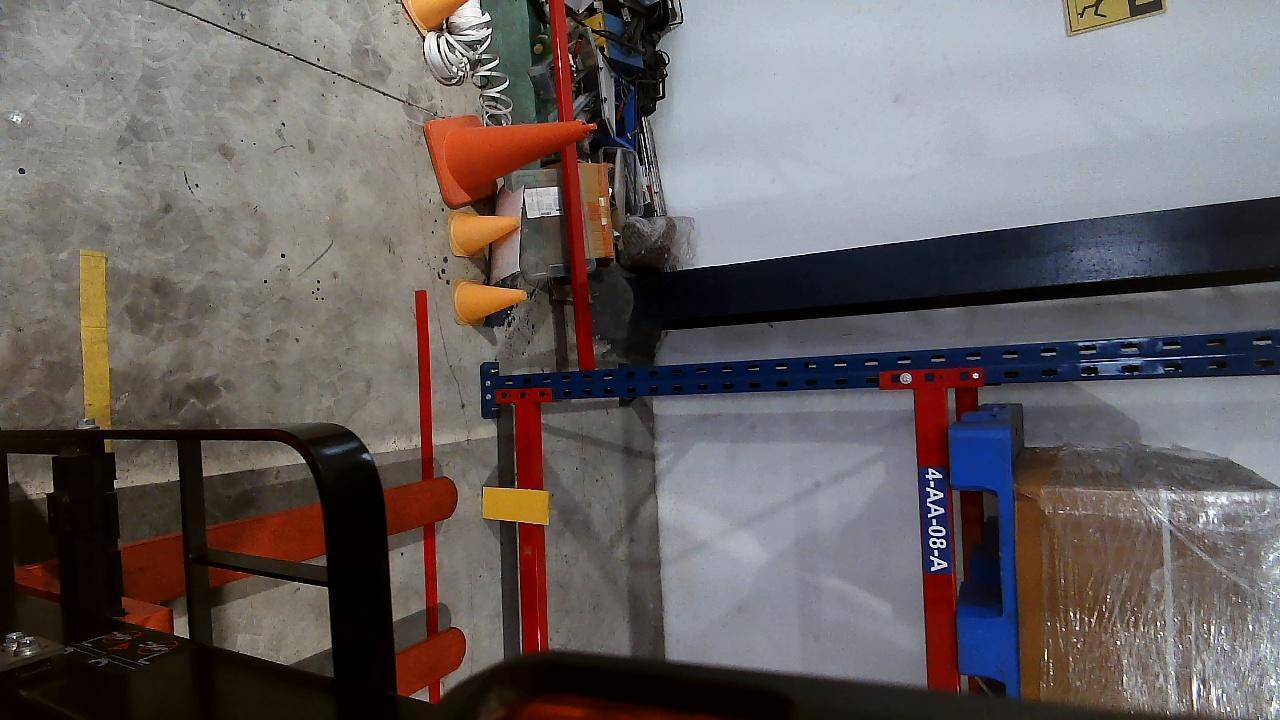red_line: (413, 290, 441, 638)
yellow_line: (77, 251, 111, 428)
